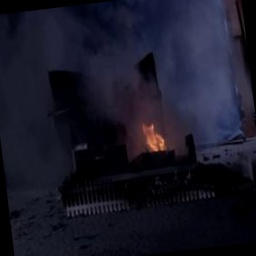fire: (126, 113, 175, 169)
smoke: (0, 0, 237, 131)
